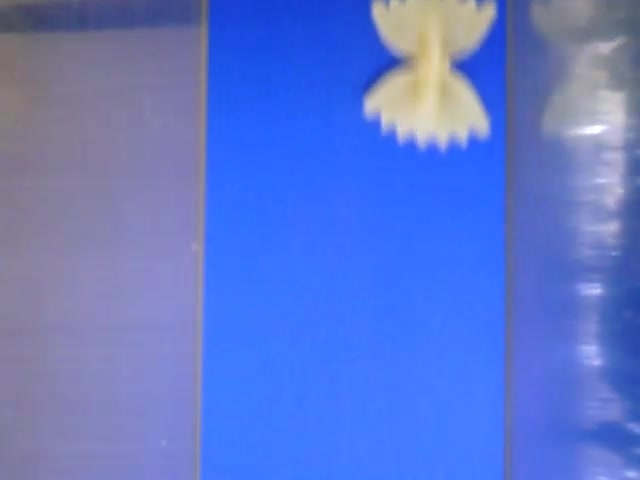farfalle: (360, 1, 491, 152)
